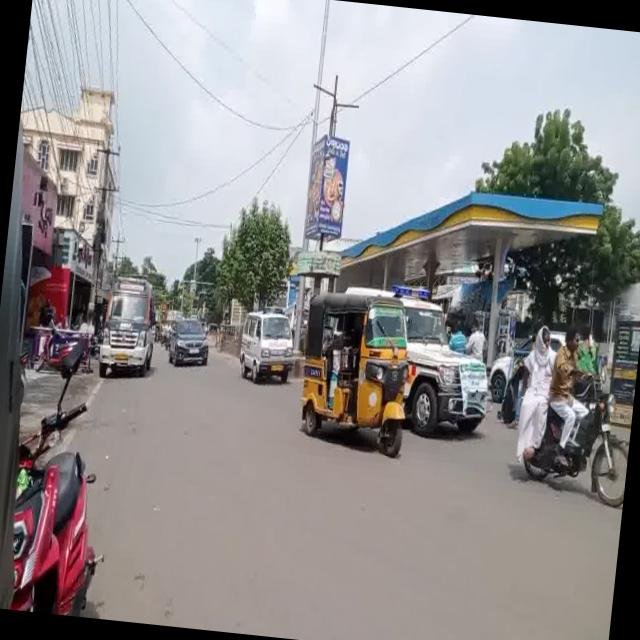ambulance: (392, 279, 502, 432), (90, 274, 162, 376), (228, 297, 302, 395)
